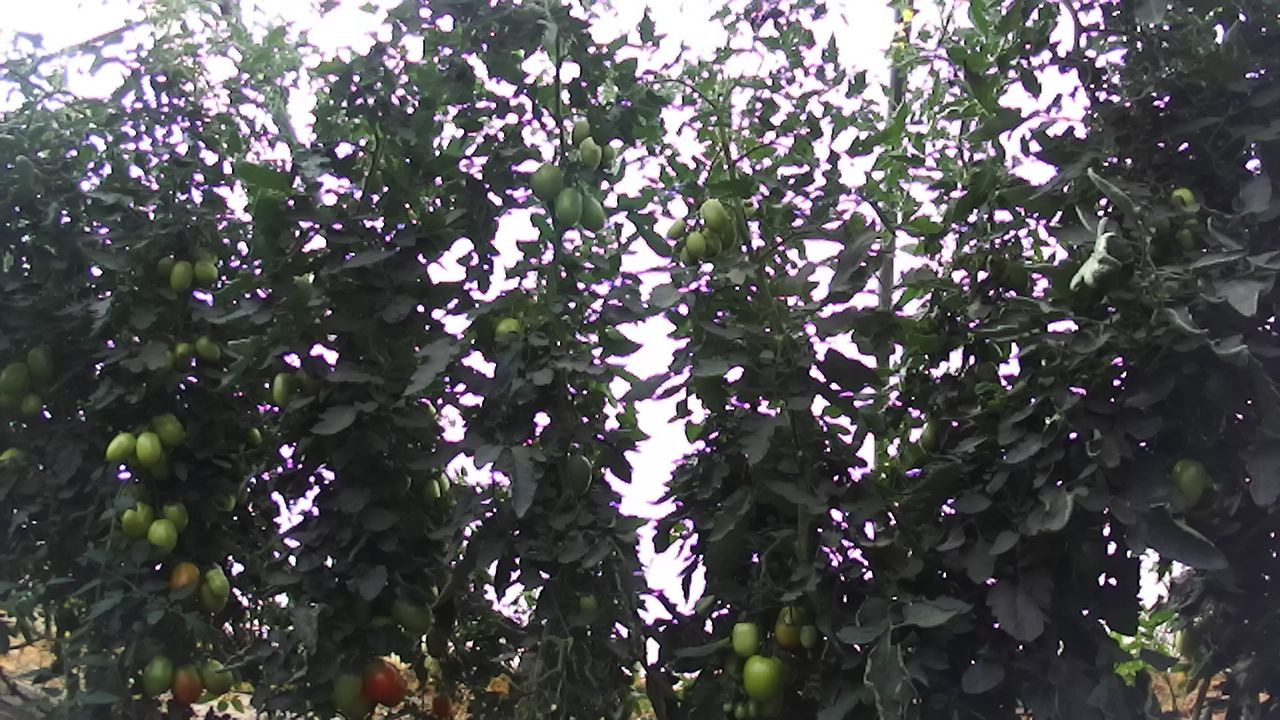tomato: (387, 590, 439, 643), (328, 662, 374, 719), (1169, 452, 1210, 515), (740, 654, 790, 704), (360, 659, 410, 709), (771, 601, 809, 652), (149, 405, 189, 452), (269, 365, 307, 412), (527, 158, 565, 203), (196, 654, 235, 697), (119, 499, 157, 542), (140, 652, 174, 698), (550, 186, 587, 228), (170, 662, 204, 707), (697, 195, 733, 236), (157, 496, 191, 539), (146, 516, 179, 558), (166, 560, 200, 600), (578, 189, 607, 233), (0, 359, 32, 397), (135, 428, 163, 471), (189, 332, 225, 365), (202, 565, 234, 602), (729, 620, 761, 657), (104, 430, 137, 464), (577, 134, 605, 172), (167, 259, 195, 294), (17, 388, 45, 422), (428, 687, 454, 720), (682, 227, 709, 258), (699, 227, 724, 259), (191, 259, 221, 285), (796, 621, 820, 652), (665, 214, 688, 241)
